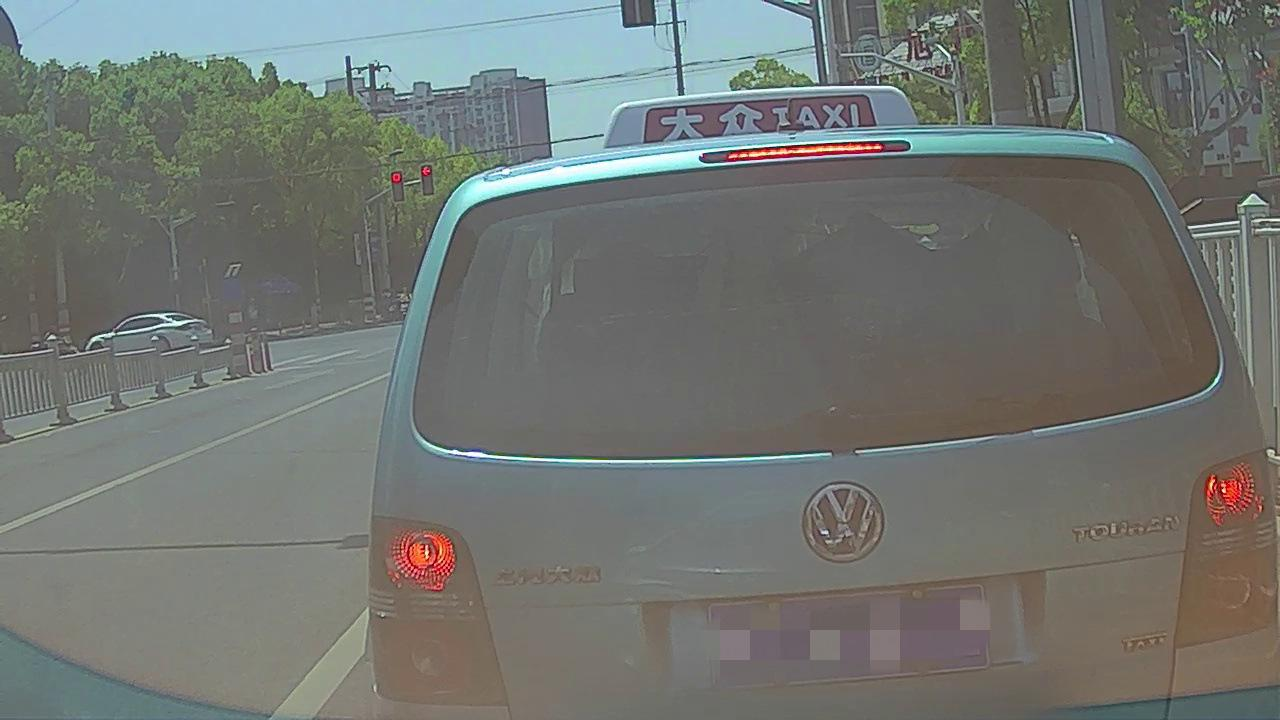traffic_light: (392, 171, 404, 200), (422, 164, 433, 194)
